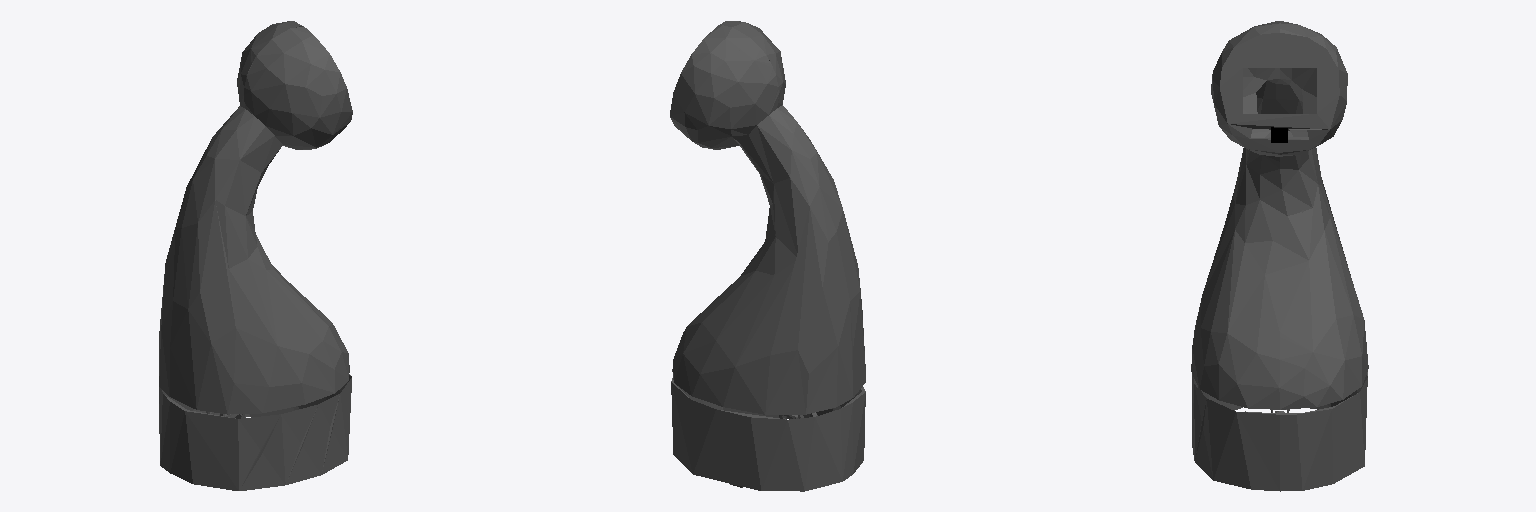
URDF robot description (stopy):
<?xml version="1.0"?>
<robot name="stopy" xmlns:xacro="http://www.ros.org/wiki/xacro">

      
    
    
 <!-- - - - - - - - - - - - Robot Base - - - - - - - - - - - -->
  
  <link name="base_link" >
      <visual>      
        <origin xyz="0 0 0" rpy="0 0 0" />
	
        <geometry>
            <mesh filename="package://ctcv_gazebo/meshes/stopy_decimated.stl" />  <!--stopy.stl-->
        </geometry>  
        
        <material name="skin"> <!--Colorize in Rviz (grey)-->
            <color rgba="0.4 0.4 0.4 1.0" />
        </material>
    </visual>
    
  <collision>
      <origin xyz="0 0 0" rpy="0 0 0" /> 
      <geometry>
          <mesh filename="package://ctcv_gazebo/meshes/stopy_chull.stl" />
      </geometry>
    </collision>
    
    <inertial> <!--this should be fixed...-->
        <origin xyz="0 0 0" rpy="0 0 0"/>
        <mass value="35"/>
        <inertia ixx="10.0" ixy="0.0" ixz="0.0" iyy="10.0" iyz="0.0" izz="10.0"/>
    </inertial>      
  </link> 
  
  
  <!-- colorize in Gazebo: -->
  <gazebo reference="base_link">
    <material>Gazebo/Grey</material>
  </gazebo>
  
  
  
  
  
  <!-- - - - - - - - - - - - RGBD (Orbbec) camera - - - - - - - - - - - -->
  
 <joint name="camera_joint" type="fixed">
    <axis xyz="0 1 0" />
    <origin xyz="0.245 0 1.17" rpy="0 0 0"/> 
    <parent link="base_link"/>
    <child link="camera_parent_link"/> <!-- This camera "parent" link provides Z pointing upwards -->
  </joint>

  <!-- Camera -->
  <link name="camera_parent_link">
    <visual>
      <origin xyz="0 0 0" rpy="0 0 0"/>
      <geometry>
       <box size="0.001 0.001 0.001"/>
      </geometry>
    <material name="camera_color"><!--Colorize in Rviz (black)-->
        <color rgba="0.0 0.0 0.0 1.0" />
    </material>     
    </visual>
  </link>  
   
  
  <gazebo reference="camera_parent_link">
    <material>Gazebo/Black</material>
    
 <sensor type="depth" name="orbbec_astra">
     <update_rate>20.0</update_rate> <!--20 Hz instead of 30Hz-->
      <camera name="camera"> 
          <horizontal_fov>1.0472</horizontal_fov>   <!--60 deg-->
        <image>
          <width>640</width>
          <height>480</height>
          <format>R8G8B8</format>
        </image>
        <clip>
          <near>0.1</near>
          <far>8</far>
        </clip>
        <noise>
          <type>gaussian</type>
          <!-- Noise is sampled independently per pixel on each frame.
               That pixel's noise value is added to each of its color
               channels, which at that point lie in the range [0,1]. -->
          <mean>0.0</mean>
          <stddev>0.007</stddev>
        </noise>
      </camera>

  <plugin name="camera_controller" filename="libgazebo_ros_openni_kinect.so">
        <baseline>0.2</baseline>
        <alwaysOn>true</alwaysOn>
        <!--<updateRate>1.0</updateRate> -->
        <cameraName>camera</cameraName>
        <imageTopicName>rgb/image_raw</imageTopicName>
        <cameraInfoTopicName>rgb/camera_info</cameraInfoTopicName>
        <depthImageTopicName>depth/image_raw</depthImageTopicName>
        <depthImageInfoTopicName>depth/camera_info</depthImageInfoTopicName>
        <pointCloudTopicName>depth/points</pointCloudTopicName>
        <frameName>/camera_link</frameName>  <!-- needs to be published in inverted frame (Z pointing forward) -->
        <pointCloudCutoff>0.5</pointCloudCutoff>
        
        <distortionK1>0.0</distortionK1>
        <distortionK2>0.0</distortionK2>
        <distortionK3>0.0</distortionK3>
        <distortionT1>0.0</distortionT1>
        <distortionT2>0.0</distortionT2>
        
        <!--<distortionK1>0.00000001</distortionK1>
        <distortionK2>0.00000001</distortionK2>
        <distortionK3>0.00000001</distortionK3>
        <distortionT1>0.00000001</distortionT1>
        <distortionT2>0.00000001</distortionT2>-->
      
        <CxPrime>0</CxPrime>
        <Cx>0</Cx>
        <Cy>0</Cy>
        <focalLength>0</focalLength>
        <hackBaseline>0</hackBaseline>
    </plugin>
    </sensor>        
    
  </gazebo> 
  
   <!-- Camera TF to "fix" where Z is pointing at -->
   <joint name="camera_optical_joint" type="fixed">
    <axis xyz="0 1 0" />
    <origin xyz="0 0 0" rpy="-1.5708 0 -1.5708"/>
    <parent link="camera_parent_link"/>
    <child link="camera_link"/>
  </joint>
    <!-- Camera Optical Frame -->
    <link name="camera_link">
        <visual>
        <origin xyz="0 0 0" rpy="0 0 0"/>
        <geometry>
        <box size="0.05 0.05 0.05"/>
        </geometry>
     <material name="depth_camera_color"> <!--Colorize in Rviz (black)-->
            <color rgba="0.0 0.0 0.0 1.0" />
        </material>
        </visual>
    </link>      
  
    
    
  
    
  <!-- - - - - - - - - - - - RPLIDAR A2 Laser - - - - - - - - - - - -->    
  <joint name="laser_joint" type="fixed">
    <axis xyz="0 1 0" />
    <origin xyz="0 0 0.31" rpy="0 0 0"/>
    <parent link="base_link"/>
    <child link="laser"/>
  </joint>

  <link name="laser">
    <visual>
      <origin xyz="0 0 0" rpy="0 0 0"/>
      <geometry>
            <box size="0.05 0.05 0.05"/>
      </geometry>
       <material name="laser_color">  <!--Colorize in Rviz (black)-->
            <color rgba="0.0 0.0 0.0 1.0" />
        </material>       
    </visual>
  </link>
  
  <gazebo reference="laser">
      <sensor type="ray" name="rplidar_sensor">
      <pose>0 0 0 0 0 0</pose>
      <visualize>false</visualize>
      <update_rate>15.5</update_rate>
      <ray> 
        <scan>
          <horizontal>
            <samples>360</samples>
            <resolution>1</resolution>
            <min_angle>-3.14159265359</min_angle>   <!-- 360 degrees -->
            <max_angle>3.14159265359</max_angle>
          </horizontal>
        </scan>
        <range>
          <min>0.10</min>
          <max>6.0</max>    <!--6m range -->
          <resolution>0.02</resolution> <!-- 2cm uncertainty -->
        </range>
        <noise>
          <type>gaussian</type>
          <!-- Noise parameters based on published spec for Hokuyo laser
               achieving "+-30mm" accuracy at range < 10m.  A mean of 0.0m and
               stddev of 0.01m will put 99.7% of samples within 0.03m of the true
               reading. -->
          <mean>0.0</mean>
          <stddev>0.01</stddev>
        </noise>
      </ray>
      <plugin name="laser_controller" filename="libgazebo_ros_laser.so">
        <topicName>scan</topicName>
        <frameName>laser</frameName>
      </plugin>
    </sensor>
  </gazebo>       
  
    
    
  
    
  <!-- - - - - - - - - - - - Drive Controller - - - - - - - - - - - -->  
    <gazebo>
    <plugin name="drive_controller" filename="libgazebo_ros_planar_move.so">
      <commandTopic>cmd_vel</commandTopic>
      <odometryTopic>odom</odometryTopic>
      <odometryFrame>odom</odometryFrame>
      <odometryRate>25.0</odometryRate>
      <robotBaseFrame>base_link</robotBaseFrame>
    </plugin>
  </gazebo>
 
    
  <!--TUTORIAL TO ADD SENSORS: http://gazebosim.org/tutorials?tut=ros_gzplugins-->

  	
</robot>

--- Render facts (derived) ---
The picture shows the robot from 3 angles, left to right: view 1: azimuth 30°, elevation 25°; view 2: azimuth 150°, elevation 25°; view 3: azimuth 270°, elevation 25°; orthographic projection.
Robot: stopy — 4 links, 3 joints (3 fixed); root link base_link; default pose: all joints at 0.
Links seen in each view (by area): view 1: base_link; view 2: base_link; view 3: base_link.
Link boxes in pixels (x1,y1,x2,y2): base_link: (159, 21, 352, 490); base_link: (670, 21, 865, 491); base_link: (1191, 21, 1368, 491).
Size in the robot's own frame: 0.6083 by 0.5205 by 1.47 metres.
1 mesh visuals loaded from 1 distinct referenced files (1 binary STL).
